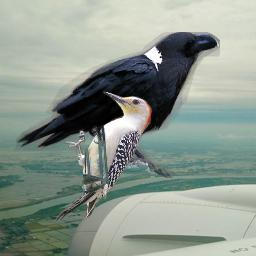Crow: (16, 32, 220, 180)
Woodpecker: (54, 89, 154, 224)
